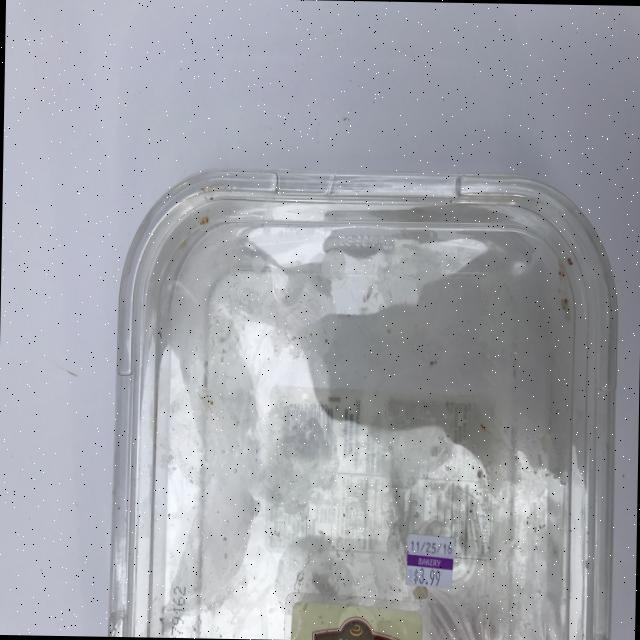plastic: (108, 167, 619, 640)
